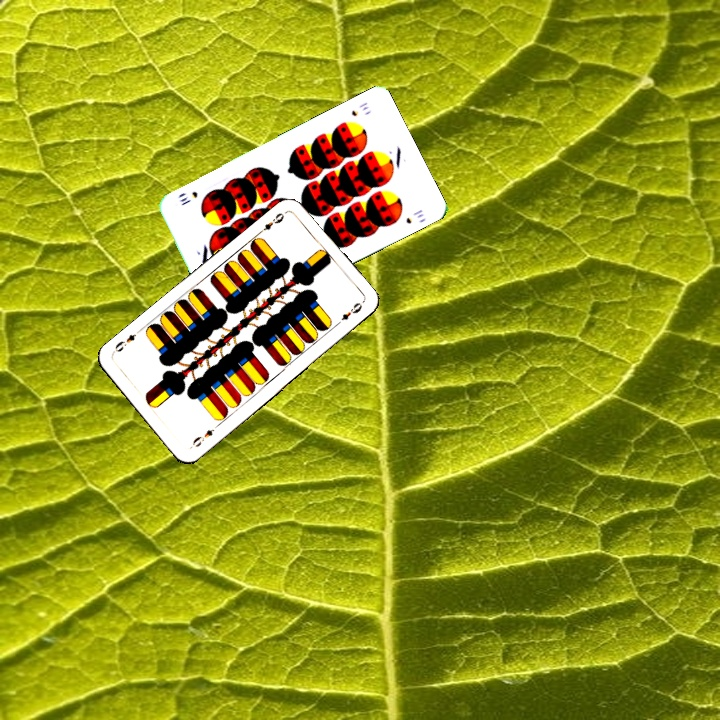E9: (255, 207, 289, 237), (188, 425, 217, 450)
S10: (347, 98, 371, 119)
